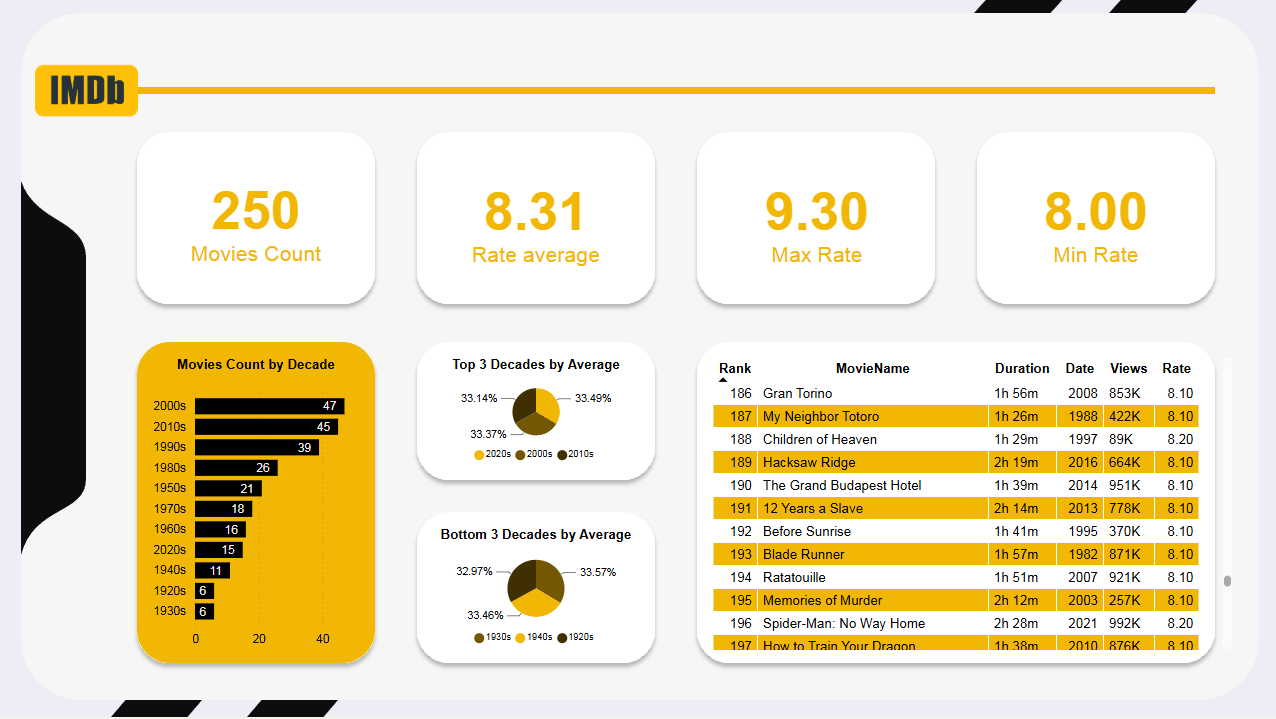

What the dashboard file says about the page in this screenshot:
{"tool":"powerbi","page":{"name":"Overview","canvas":[1280,720],"ordinal":0},"visuals":[{"type":"image","box":[20,23,133,133],"z":0},{"type":"card","title":"Number of Movies","fields":{"Values":["Top 250 imdb Movie.Movies Count"]},"box":[136,133,240,173],"z":1000},{"type":"card","title":"Number of Movies","fields":{"Values":["Top 250 imdb Movie.Rate average"]},"box":[416,134,240,173],"z":2000},{"type":"card","title":"Number of Movies","fields":{"Values":["Top 250 imdb Movie.Max Rate"]},"box":[697,134,240,173],"z":3000},{"type":"card","title":"Number of Movies","fields":{"Values":["Top 250 imdb Movie.Min Rate"]},"box":[976,134,240,173],"z":4000},{"type":"tableEx","fields":{"Values":["Top 250 imdb Movie.Rank","Top 250 imdb Movie.MovieName","Top 250 imdb Movie.Duration","Top 250 imdb Movie.Date","Top 250 imdb Movie.Views","Top 250 imdb Movie.Rate"]},"box":[697,343,550,323],"z":5000},{"type":"barChart","fields":{"Category":["Top 250 imdb Movie.Decade"],"Y":["Top 250 imdb Movie.Movies Count"]},"box":[136,343,240,323],"z":6000},{"type":"pieChart","title":"Top 3 Decades by Average","fields":{"Category":["Top 250 imdb Movie.Decade"],"Y":["Top 250 imdb Movie.Rate average"]},"box":[416,343,240,140],"z":7000},{"type":"pieChart","title":"Bottom 3 Decades by Average","fields":{"Category":["Top 250 imdb Movie.Decade"],"Y":["Top 250 imdb Movie.Rate average"]},"box":[416,513,240,153],"z":8000}]}

Visuals, with their boxes in screenshot pixels (x1, y1, x2, y2), scaled from the page's 1280x720 canvas onto the 1276x719 screenshot:
image: select_region(20, 23, 153, 156)
"Number of Movies" card: select_region(136, 133, 375, 306)
"Number of Movies" card: select_region(415, 134, 654, 307)
"Number of Movies" card: select_region(695, 134, 934, 307)
"Number of Movies" card: select_region(973, 134, 1212, 307)
tableEx - Top 250 imdb Movie.Rank x Top 250 imdb Movie.MovieName: select_region(695, 343, 1243, 665)
barChart - Top 250 imdb Movie.Decade x Top 250 imdb Movie.Movies Count: select_region(136, 343, 375, 665)
"Top 3 Decades by Average" pieChart: select_region(415, 343, 654, 482)
"Bottom 3 Decades by Average" pieChart: select_region(415, 512, 654, 665)
